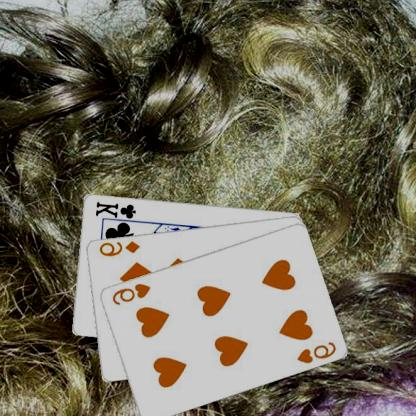6H: (295, 338, 339, 364), (111, 280, 153, 307)
9D: (98, 238, 143, 258)
KC: (94, 198, 142, 223)
